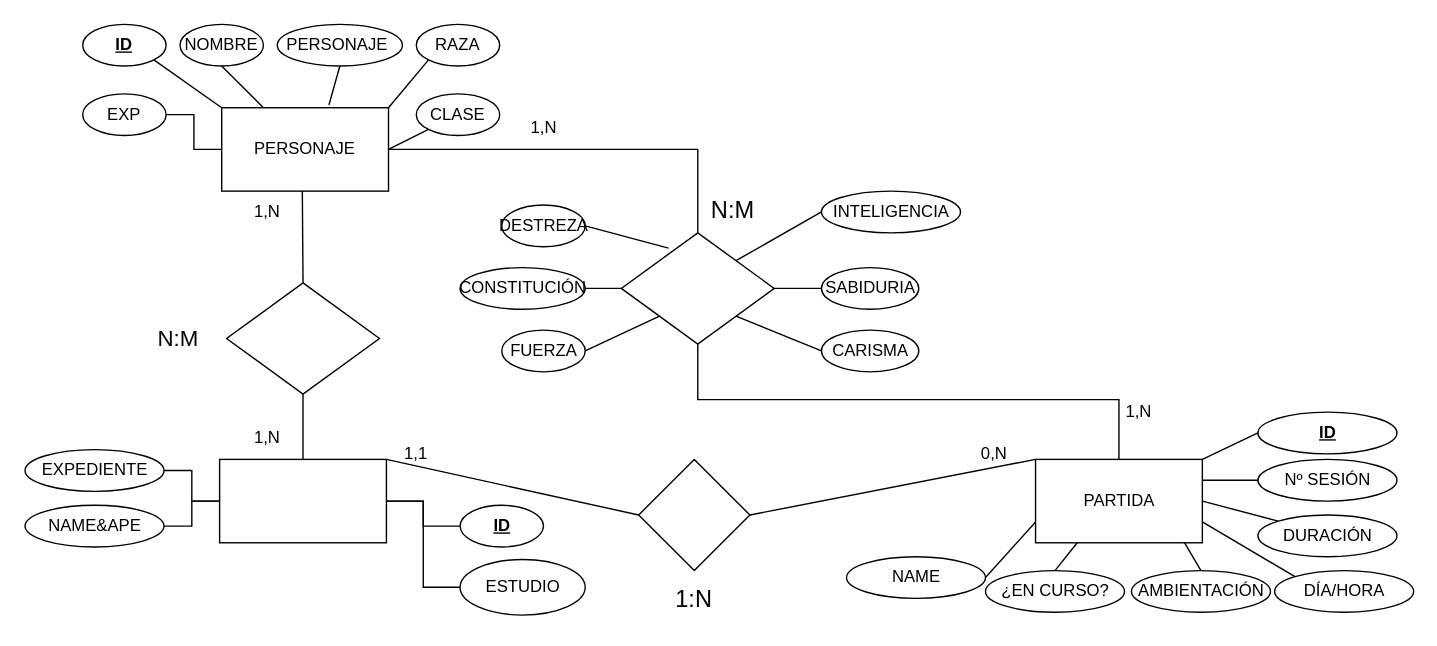
This 1437x646 diagram has some shape labels left out. The box of each missing label's shape, as (x1, y1, x2, y2) in pixels:
CONTROLA: (637, 458, 750, 571)
JUEGA: (620, 231, 774, 344)
MIEMBRO: (218, 458, 386, 543)
TIENE: (225, 281, 379, 394)
